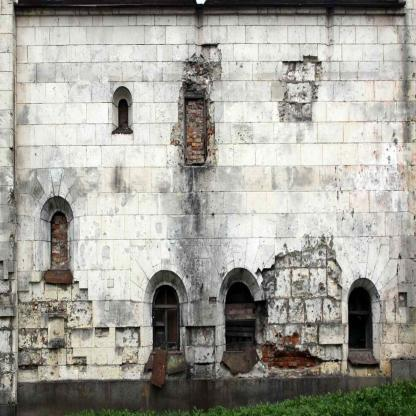Building Outline: (0, 0, 415, 414)
Dont: (77, 378, 415, 415)
Facade: (0, 0, 415, 414)
Floor: (0, 0, 416, 175)
Floor Slab: (0, 175, 416, 181)
Ground Floor: (0, 181, 416, 415)
Sill: (44, 270, 73, 283), (112, 129, 133, 133)
Window: (225, 282, 254, 351), (152, 285, 180, 350), (348, 287, 373, 351), (51, 210, 67, 269), (118, 98, 128, 128)
Window Hole: (144, 270, 188, 354), (218, 268, 262, 351), (345, 277, 381, 360), (39, 196, 74, 281), (112, 86, 133, 132)
